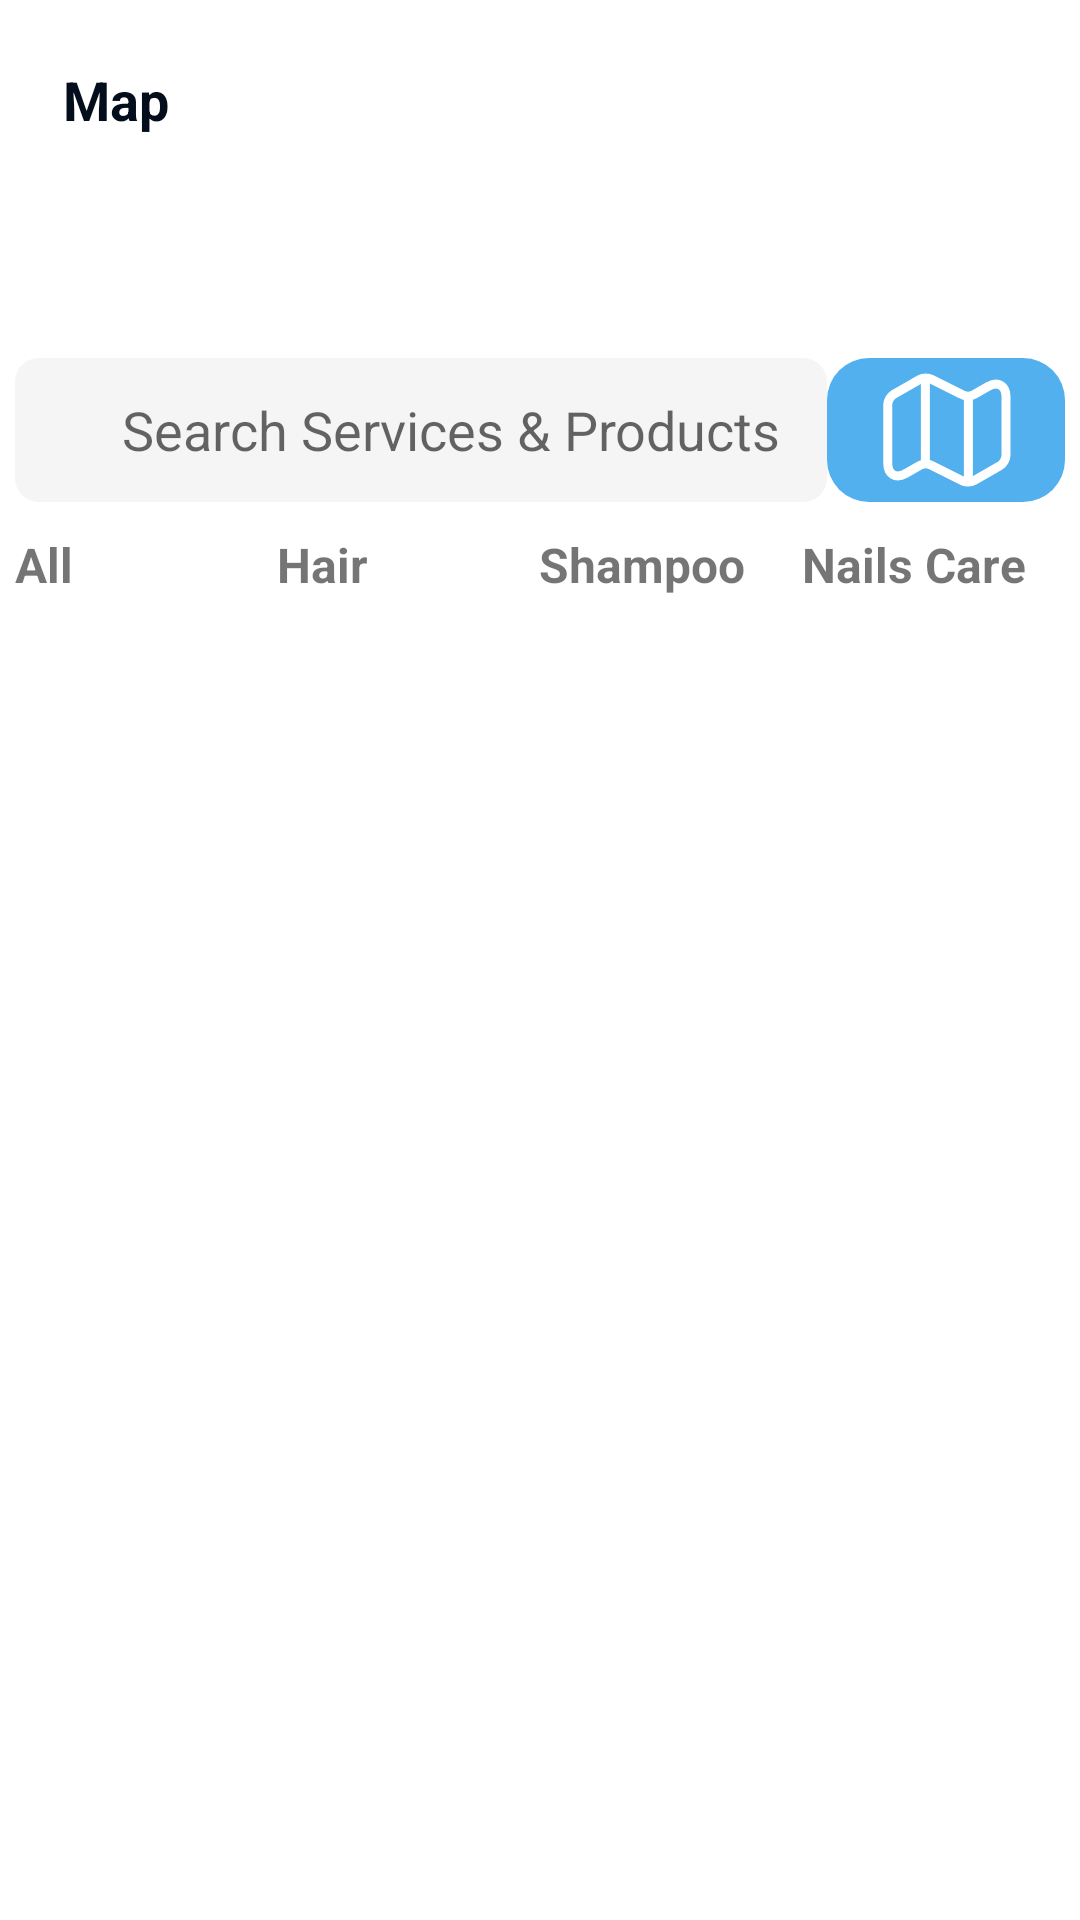

Point at icon controls on the screen. Image size 1080 x 1920, points as (x,y).
map: (946,430)
